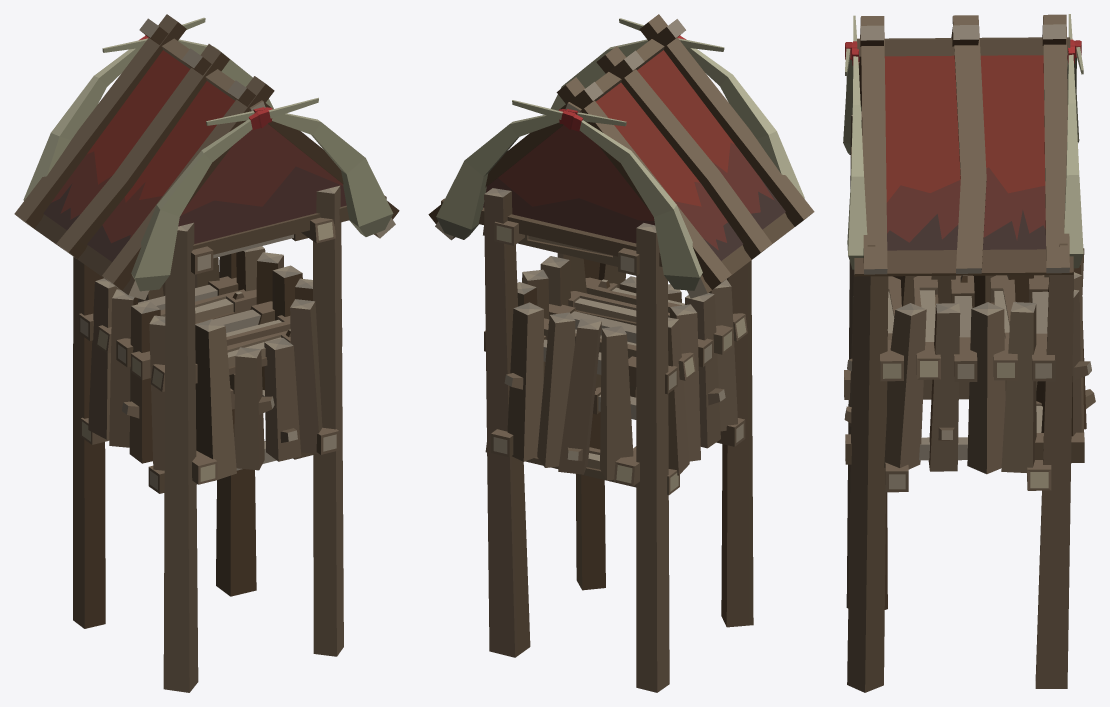
Rendered from SF_Bld_Goblin_Hut_03.fbx.
3 renders of one model, left to right at view 1: azimuth 30°, elevation 25°; view 2: azimuth 150°, elevation 25°; view 3: azimuth 270°, elevation 25°, orthographic. The views are drawn at different scales.
Visible parts, largest first — view 1: SF_Bld_Goblin_Hut_03; view 2: SF_Bld_Goblin_Hut_03; view 3: SF_Bld_Goblin_Hut_03.
Part boxes in pixels (x1,y1,x2,y2): SF_Bld_Goblin_Hut_03: (14, 14, 399, 692); SF_Bld_Goblin_Hut_03: (428, 14, 814, 692); SF_Bld_Goblin_Hut_03: (843, 14, 1095, 692).
Bounding box in the file's own units: 5.49 × 10.49 × 3.84.
